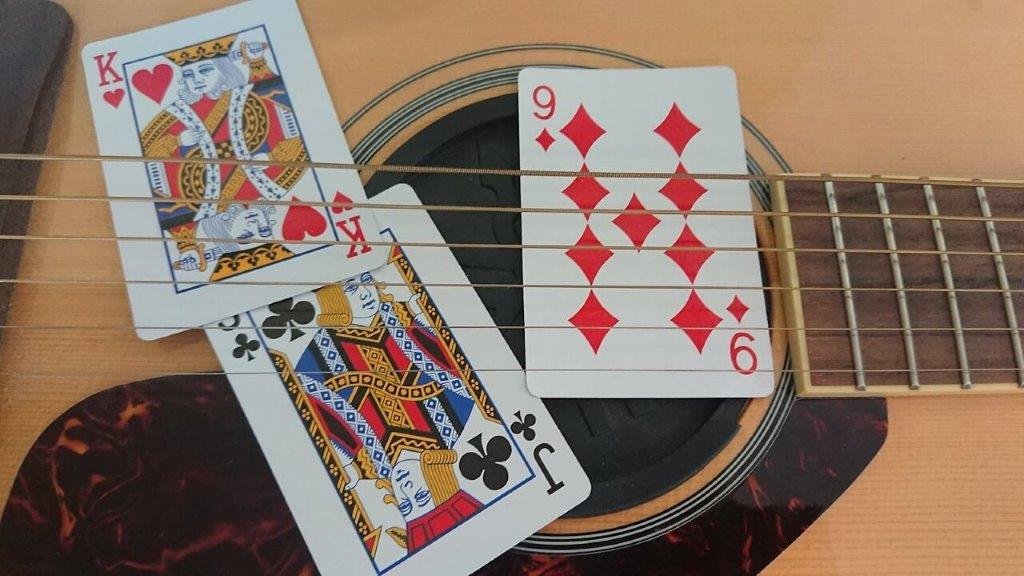9D: (526, 82, 561, 156)
KH: (89, 48, 129, 114)
